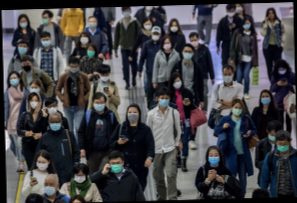with_mask: (109, 159, 123, 174), (43, 182, 57, 196), (48, 119, 62, 132), (35, 158, 49, 171), (208, 152, 221, 166), (275, 141, 291, 152), (73, 172, 87, 184), (127, 109, 139, 123), (222, 71, 234, 84), (231, 104, 243, 117), (159, 95, 170, 109), (172, 78, 184, 90), (93, 100, 106, 111), (182, 48, 193, 61), (20, 61, 32, 72), (8, 75, 19, 87), (260, 93, 271, 105), (29, 97, 39, 110), (269, 130, 279, 143), (47, 103, 57, 115), (17, 44, 27, 55), (79, 34, 89, 45), (29, 85, 40, 95), (100, 72, 110, 83), (88, 19, 97, 31), (276, 67, 288, 76), (40, 37, 50, 47), (86, 48, 96, 58), (68, 64, 79, 73), (189, 38, 200, 47), (241, 22, 252, 31), (122, 8, 131, 18), (151, 32, 160, 42), (169, 23, 178, 33), (162, 41, 172, 50), (19, 18, 27, 28), (235, 4, 243, 14), (41, 15, 49, 24), (144, 22, 153, 30), (227, 9, 236, 17)
without_mask: (267, 10, 276, 21)
